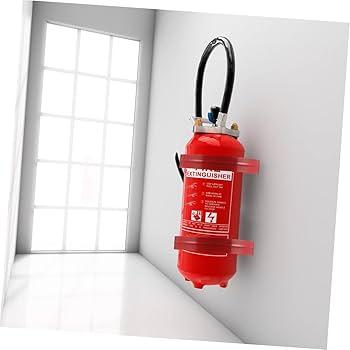wall-mounted: (165, 37, 265, 299)
